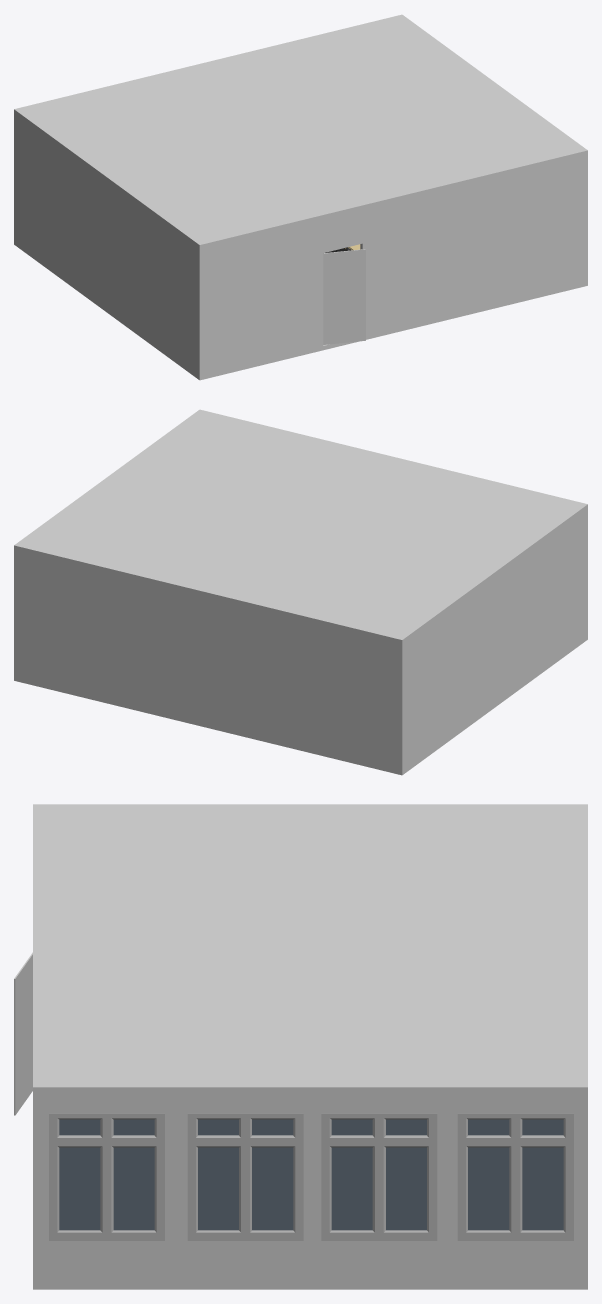
The model's file is RaumG211_37814ply.obj.
3 renders of one model, top to bottom at view 1: azimuth 30°, elevation 25°; view 2: azimuth 150°, elevation 25°; view 3: azimuth 270°, elevation 25°, orthographic. The views are drawn at different scales.
Visible parts, largest first — view 1: polySurface1; view 2: polySurface1; view 3: polySurface1.
Boxes of the visible parts, <box> form: polySurface1: <box>14,14,587,380</box>; polySurface1: <box>14,409,587,775</box>; polySurface1: <box>14,804,587,1289</box>.
Bounding box in the file's own units: 14.82 × 4.93 × 12.68.
